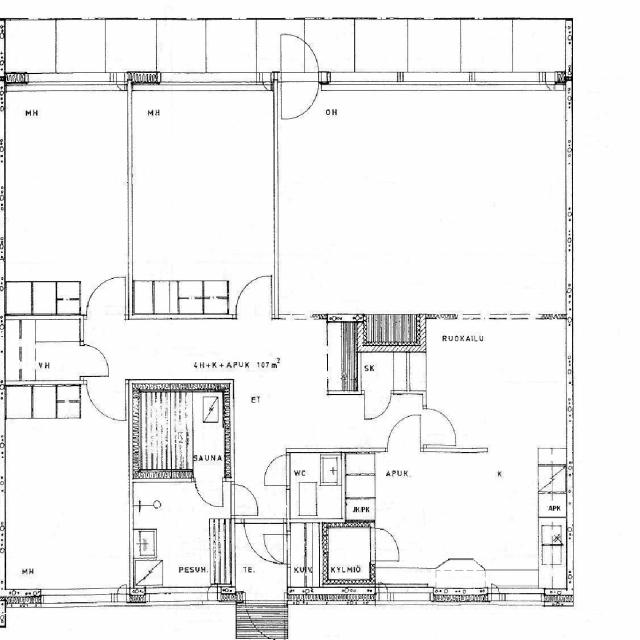door: (281, 29, 319, 91), (281, 72, 319, 133), (244, 587, 284, 640), (243, 518, 284, 568), (86, 270, 125, 319), (86, 380, 125, 428), (422, 407, 459, 445), (370, 528, 404, 560), (79, 344, 112, 376), (230, 484, 261, 515), (259, 454, 291, 484), (195, 477, 222, 512), (260, 534, 291, 564)
